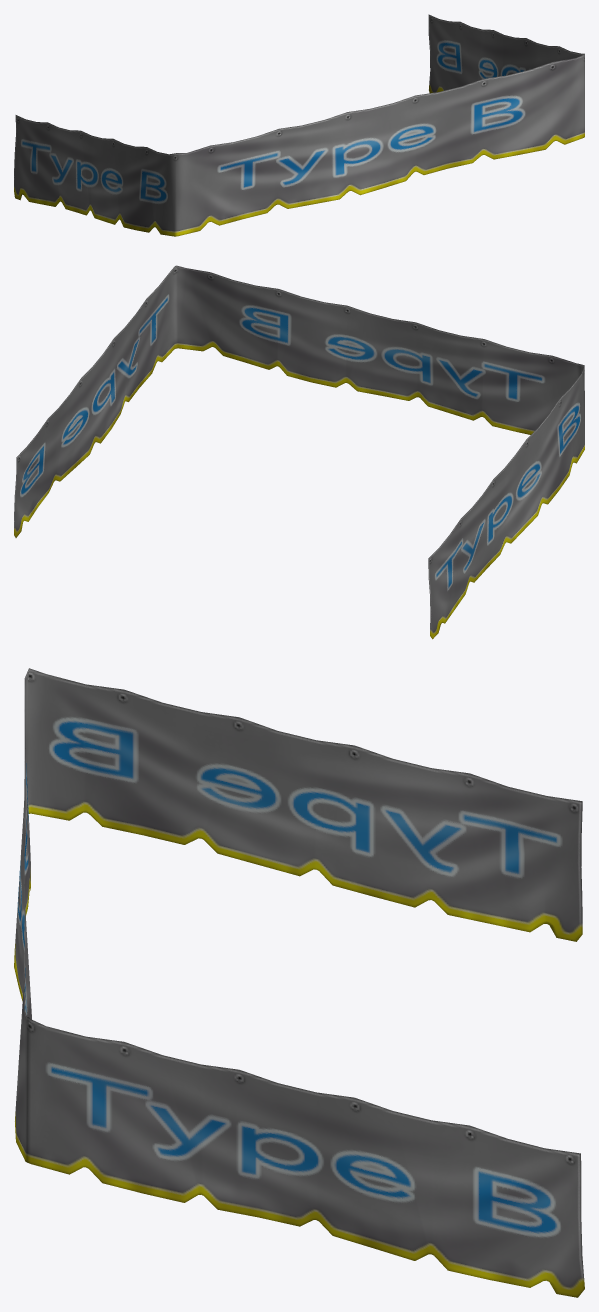
File: jsf_ShopCurtain_b_s03.fbx
3 views of the same model, one above another, from view 1: azimuth 30°, elevation 25°; view 2: azimuth 150°, elevation 25°; view 3: azimuth 270°, elevation 25° (orthographic). The views are drawn at different scales.
Parts seen in each view (by area): view 1: jsf_ShopCurtain_b_s03; view 2: jsf_ShopCurtain_b_s03; view 3: jsf_ShopCurtain_b_s03.
Boxes of the visible parts, x1,y1,x2,y2 form: jsf_ShopCurtain_b_s03: (14,14,584,236); jsf_ShopCurtain_b_s03: (14,265,584,639); jsf_ShopCurtain_b_s03: (14,668,584,1297).
Size of the model in its own units: 323 by 116 by 216.
